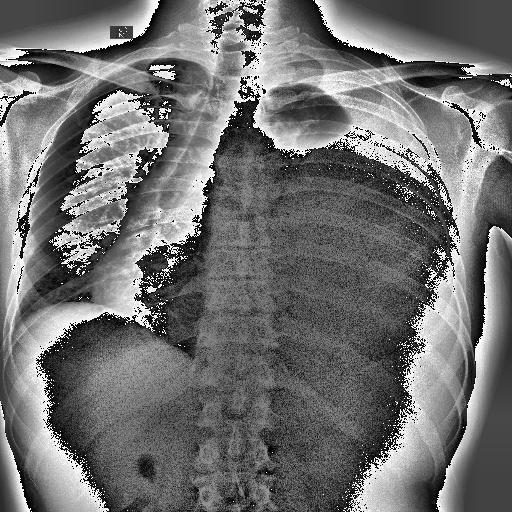10- Pleural effusion: (245, 64, 452, 371), (254, 62, 458, 358), (243, 58, 444, 344)
